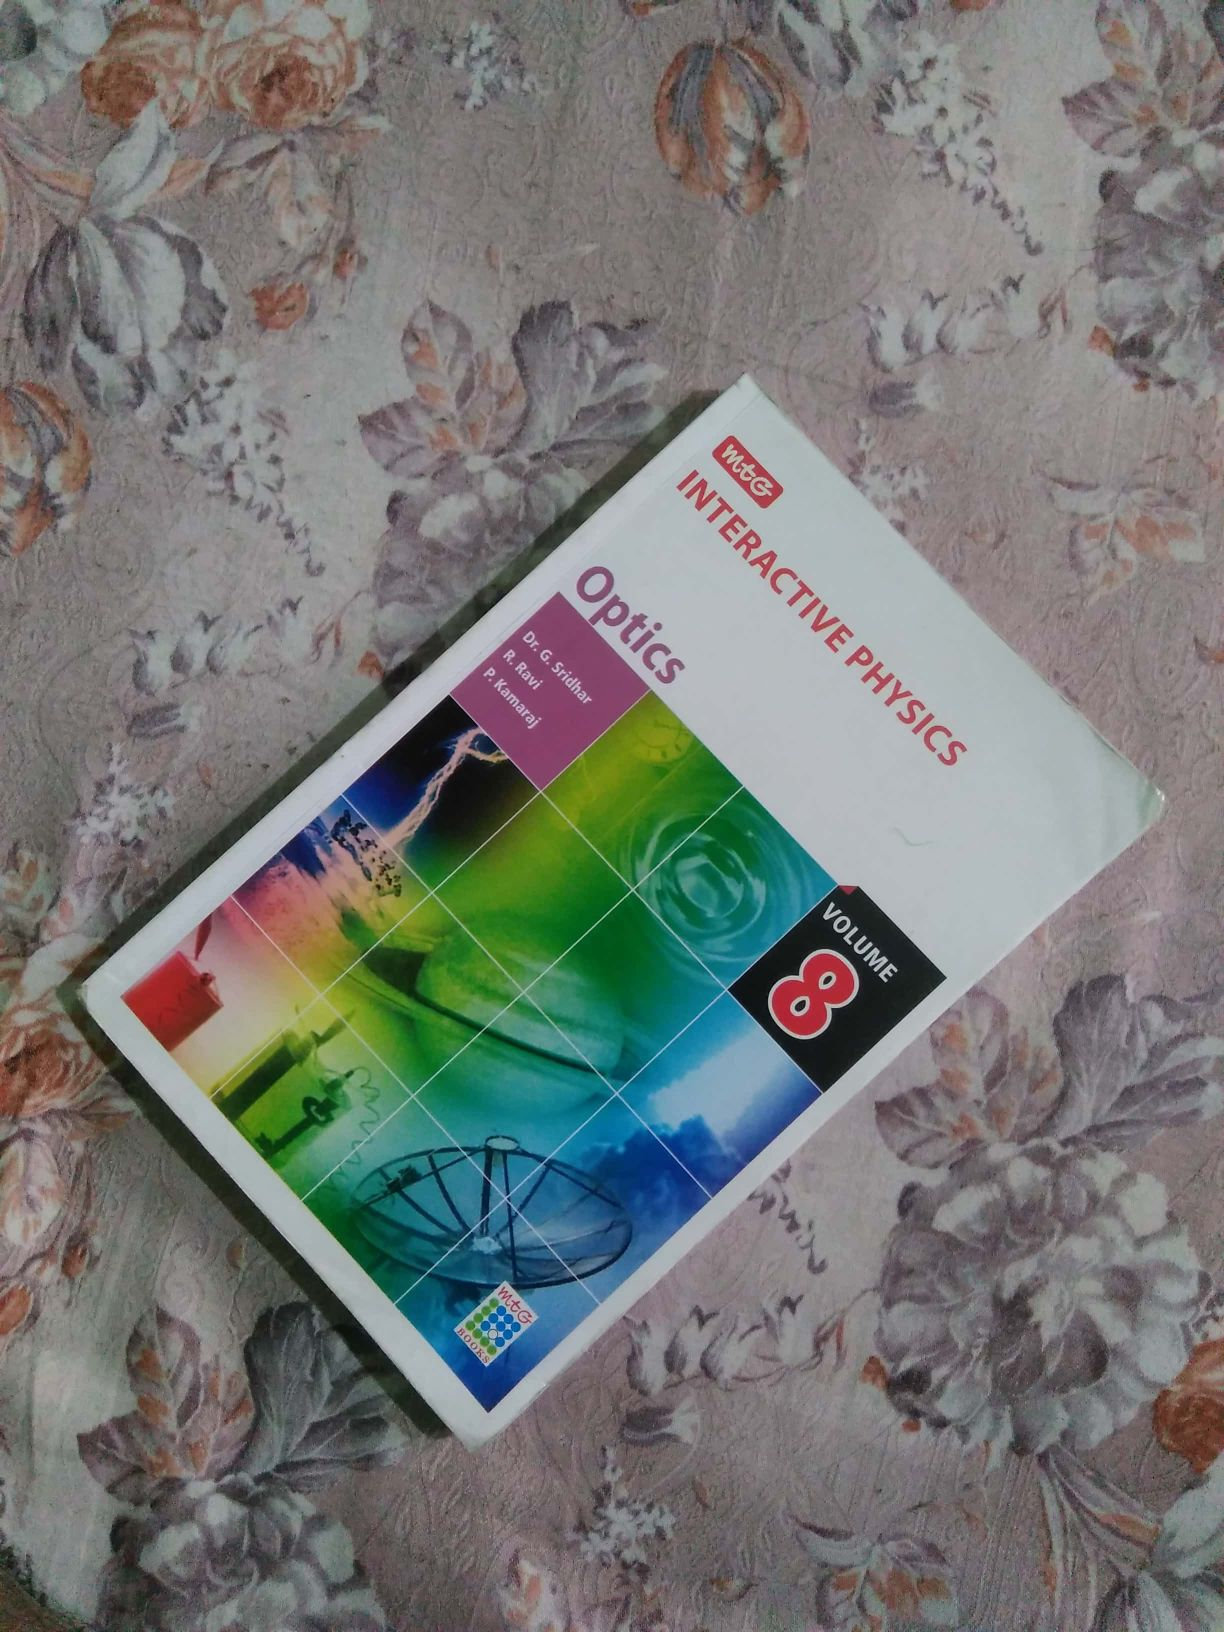optics: (156, 359, 1158, 1429)
